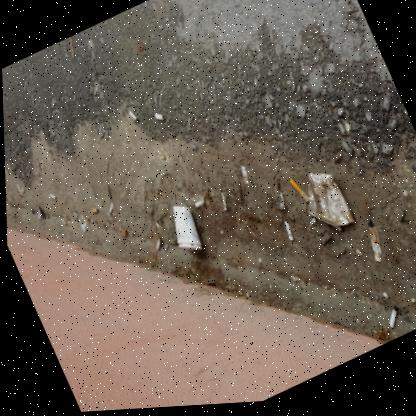Paper: (306, 176, 352, 231), (171, 208, 199, 247), (176, 245, 200, 252)
Waste: (287, 181, 306, 209), (366, 224, 378, 266), (281, 224, 291, 244), (385, 312, 394, 333), (304, 221, 315, 236), (238, 168, 246, 186), (218, 193, 224, 213), (127, 112, 136, 123), (276, 195, 281, 213), (154, 238, 159, 253), (153, 115, 163, 122), (14, 184, 20, 195), (193, 202, 201, 210), (47, 194, 55, 200), (106, 203, 110, 215), (89, 209, 96, 215), (35, 207, 38, 220)
